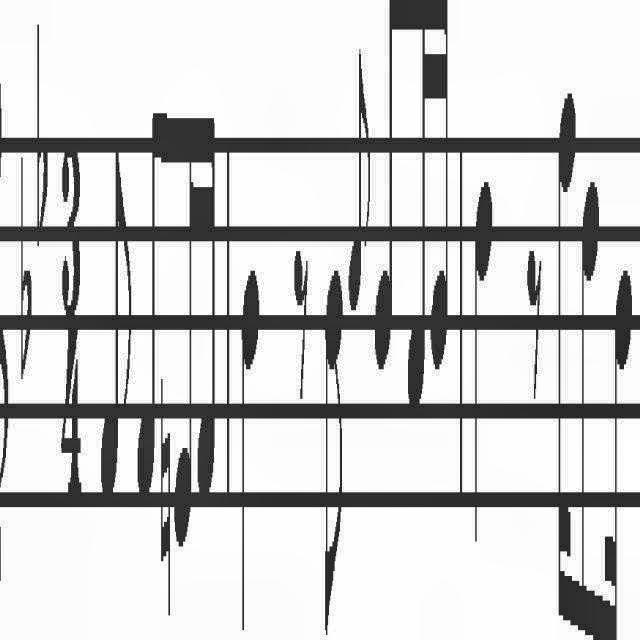Bass-clef: (0, 10, 12, 640)
Bemol: (35, 11, 49, 255), (19, 152, 33, 394)
Eighth-note: (100, 128, 132, 514), (578, 172, 602, 634), (136, 97, 160, 505), (374, 1, 398, 380), (322, 266, 344, 640)
Eighth-rest: (292, 236, 308, 407), (528, 236, 544, 402)
Quarter-note: (238, 256, 262, 640), (473, 174, 493, 554)
Sixteenth-note: (556, 76, 576, 630), (174, 96, 196, 564), (606, 260, 632, 640), (408, 1, 428, 423), (198, 78, 216, 538), (429, 1, 449, 380)
